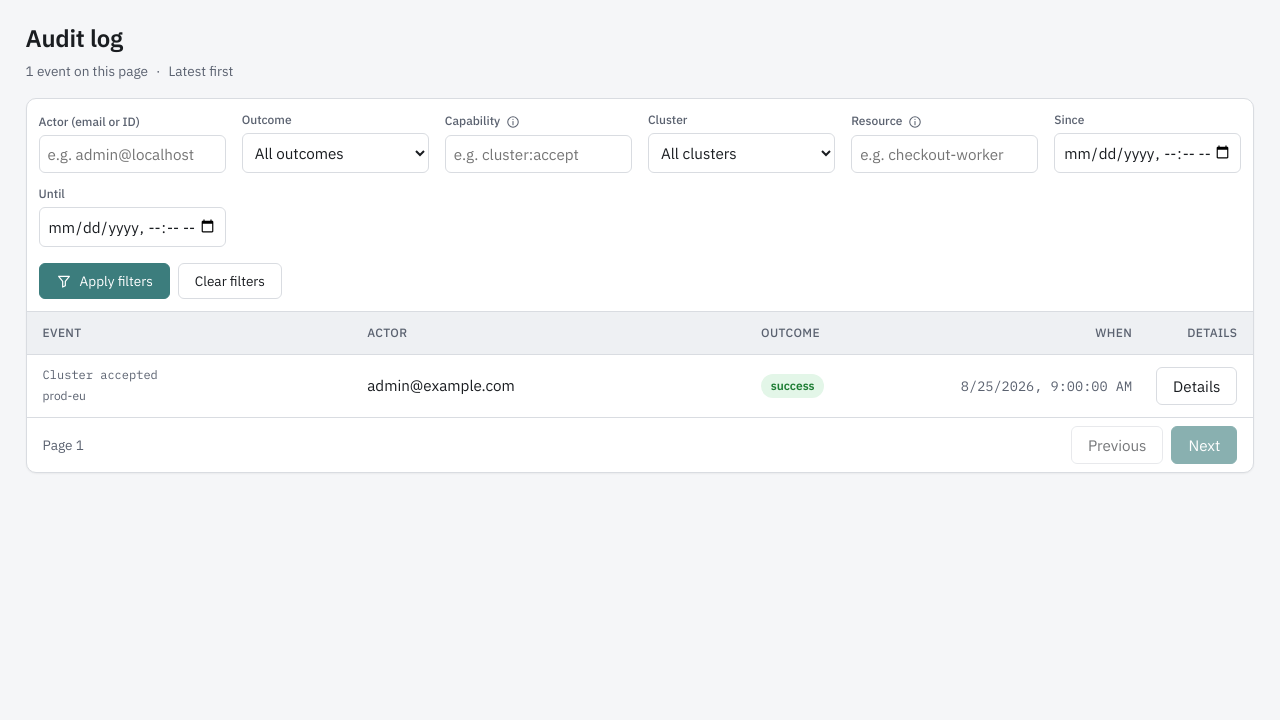
Scenario: AuditLogPage — filters › applying a filter commits it to the query and resets to page 1
Check: the text "admin@example.com" is shown, box [367,376,515,396]
Type "admin@example.com" into the field labelled "Actor (email or ID)" at (132,154), box [39,135,226,173]
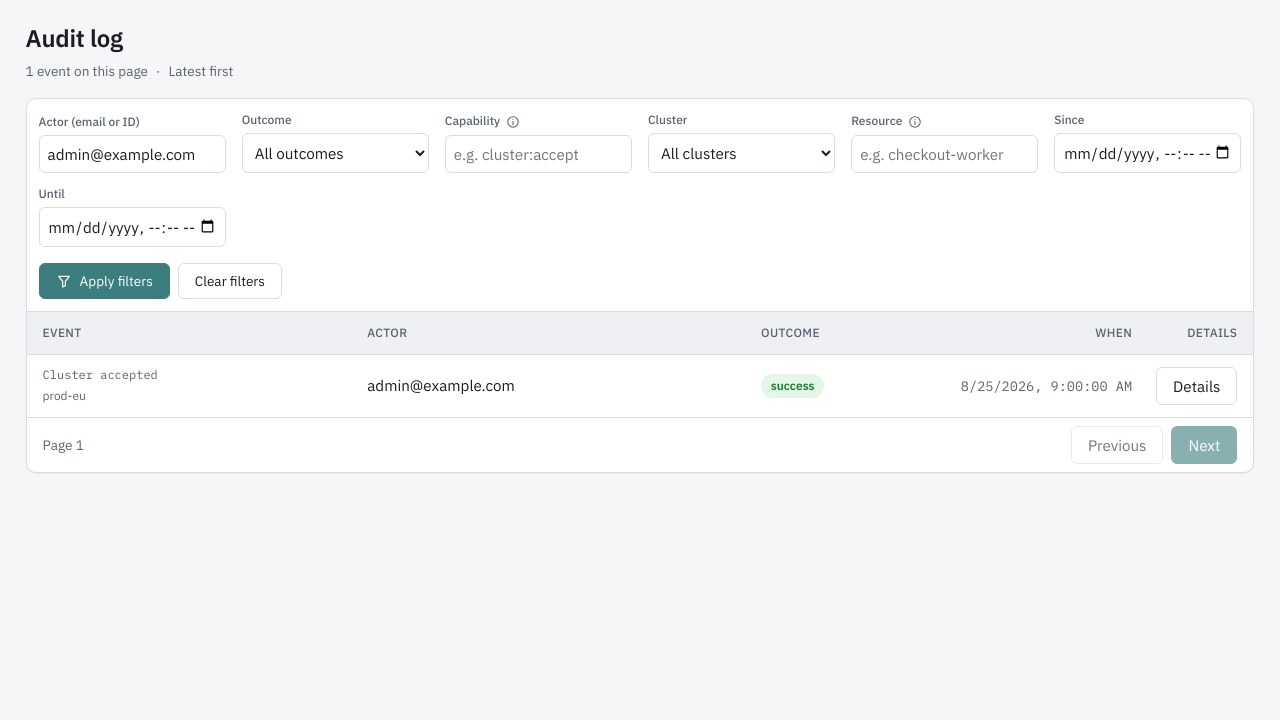
Select "Success" in the dropdown labelled "Outcome" at (335,153), box [242,133,429,173]
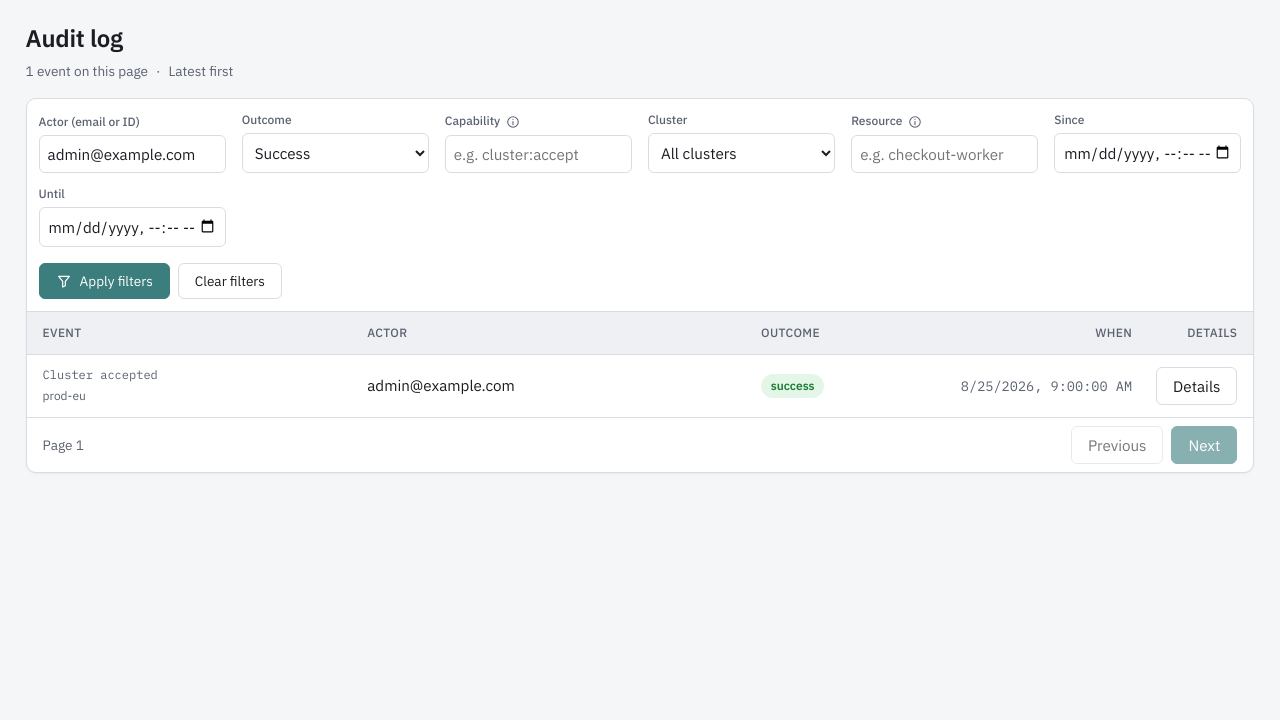
Click the button "Apply filters" at (104,281), box [39,263,170,299]
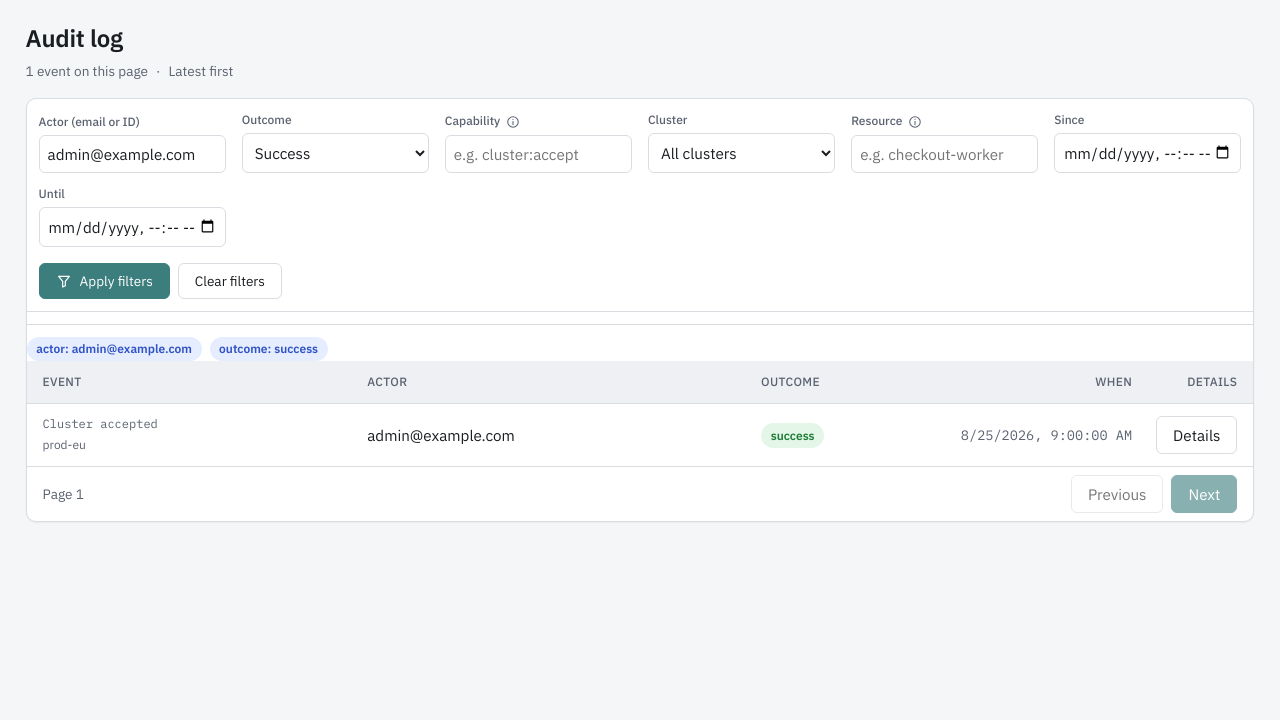
Check: the text "actor: admin@example.com" is shown, box [27,337,202,361]
